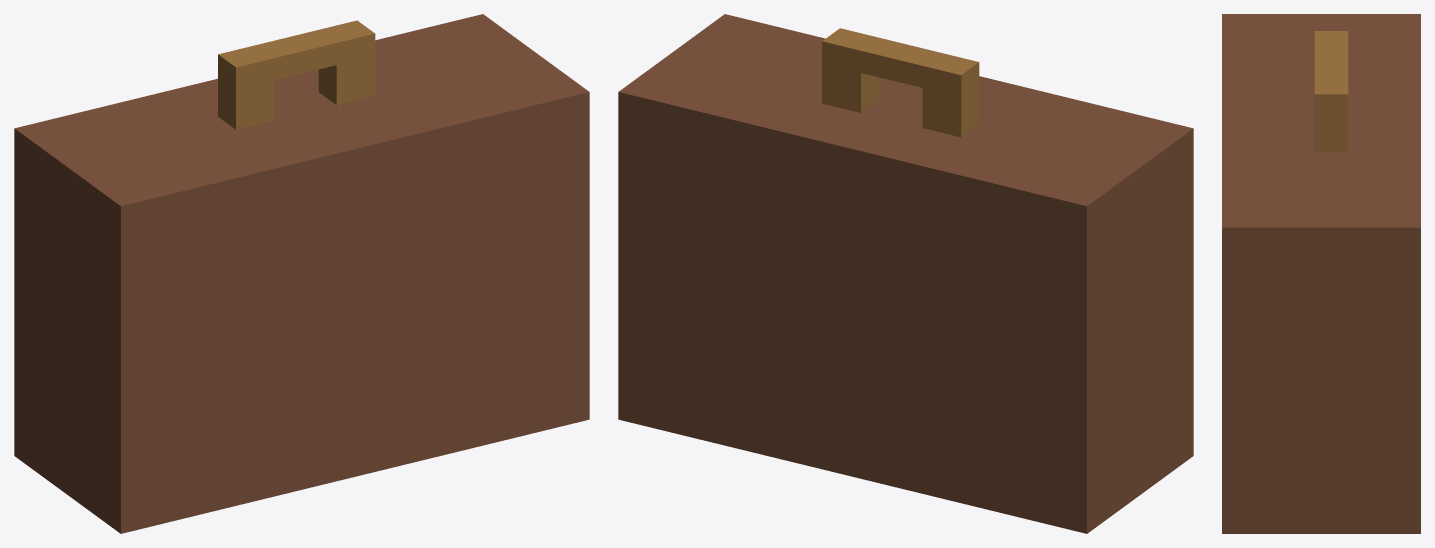
File: Briefcase.fbx
The picture shows the model from 3 angles, left to right: view 1: azimuth 30°, elevation 25°; view 2: azimuth 150°, elevation 25°; view 3: azimuth 270°, elevation 25°; orthographic projection. The views are drawn at different scales.
Parts seen in each view (by area): view 1: Briefcase, handle; view 2: Briefcase, handle; view 3: Briefcase, handle.
Boxes of the visible parts, x1,y1,x2,y2 form: Briefcase: [14, 14, 589, 533]; handle: [218, 20, 375, 129]; Briefcase: [618, 14, 1193, 533]; handle: [822, 28, 979, 137]; Briefcase: [1222, 14, 1420, 533]; handle: [1314, 31, 1348, 152].
Bounding box in the file's own units: 52.83 × 42.01 × 20.78.
